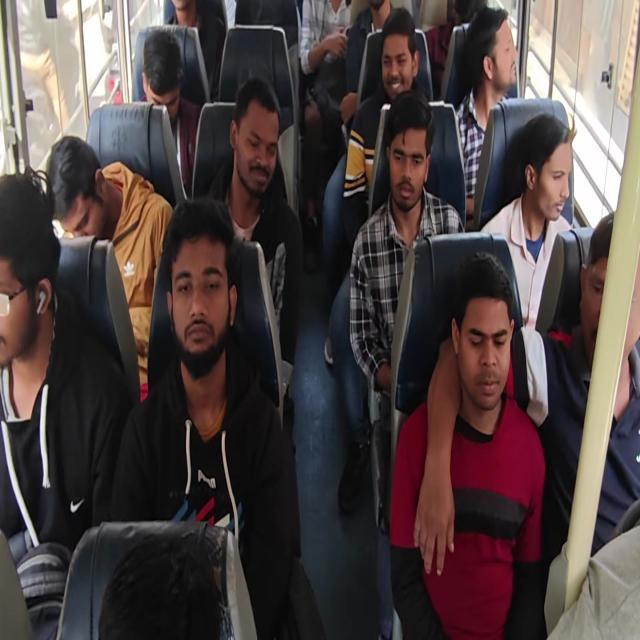person: (1, 1, 638, 638), (419, 211, 639, 635), (109, 196, 303, 638), (0, 165, 132, 638), (389, 250, 546, 638), (348, 90, 465, 400), (206, 75, 303, 434), (47, 134, 174, 402), (479, 111, 576, 334), (342, 7, 431, 247), (298, 0, 352, 264), (97, 532, 227, 639), (454, 5, 518, 218), (140, 28, 202, 198), (341, 1, 392, 128), (164, 0, 226, 100)
